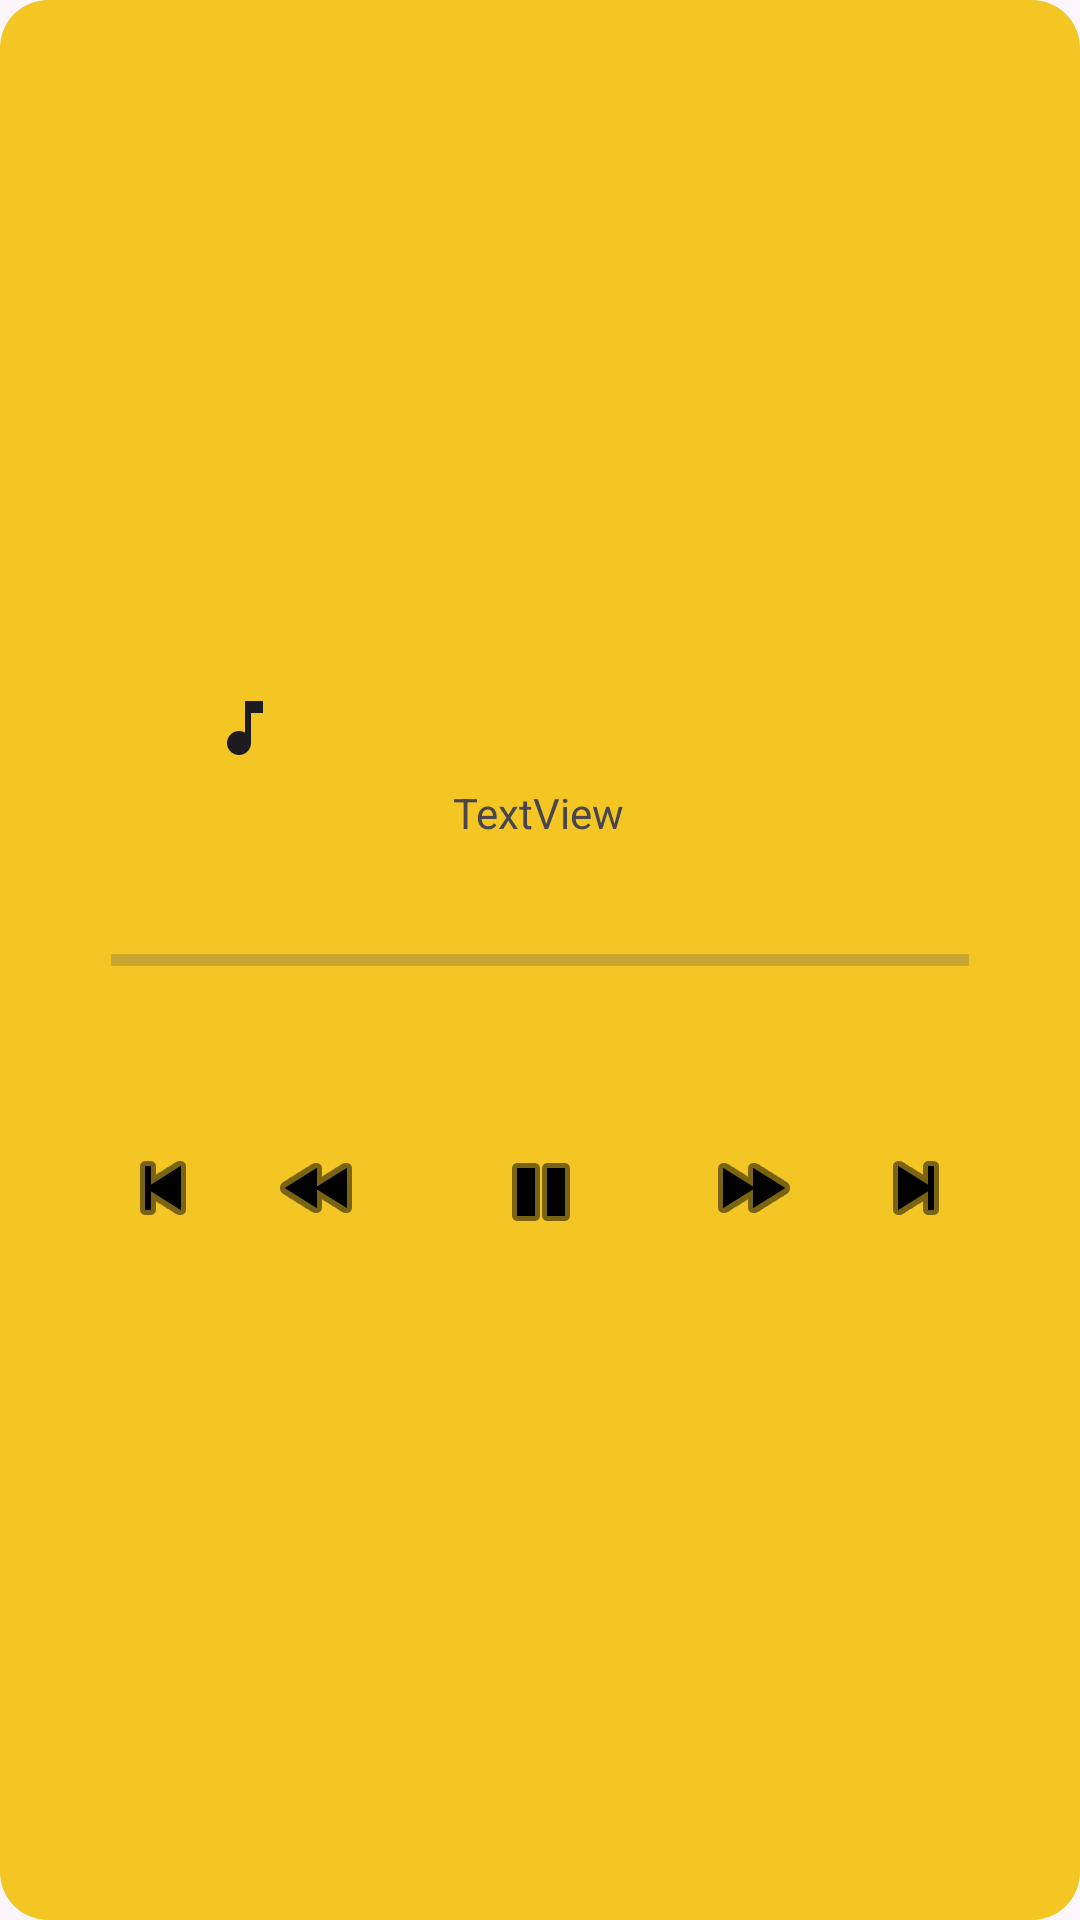

Screen size 1080w x 1920h. Icon name, then its box in pixels as (left=x1, top=y1, right=x2, bottom=y2):
music note: (left=227, top=701, right=263, bottom=755)
next: (left=893, top=1161, right=939, bottom=1215)
pause: (left=512, top=1163, right=570, bottom=1221)
previous: (left=140, top=1161, right=186, bottom=1215)
rew: (left=280, top=1163, right=352, bottom=1213)
